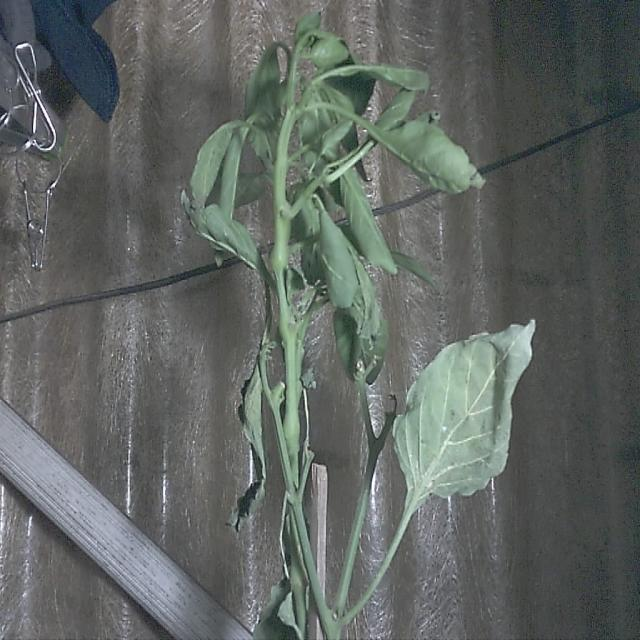Leaf: (393, 317, 536, 498), (318, 208, 380, 335), (379, 120, 485, 194), (339, 166, 399, 276)
